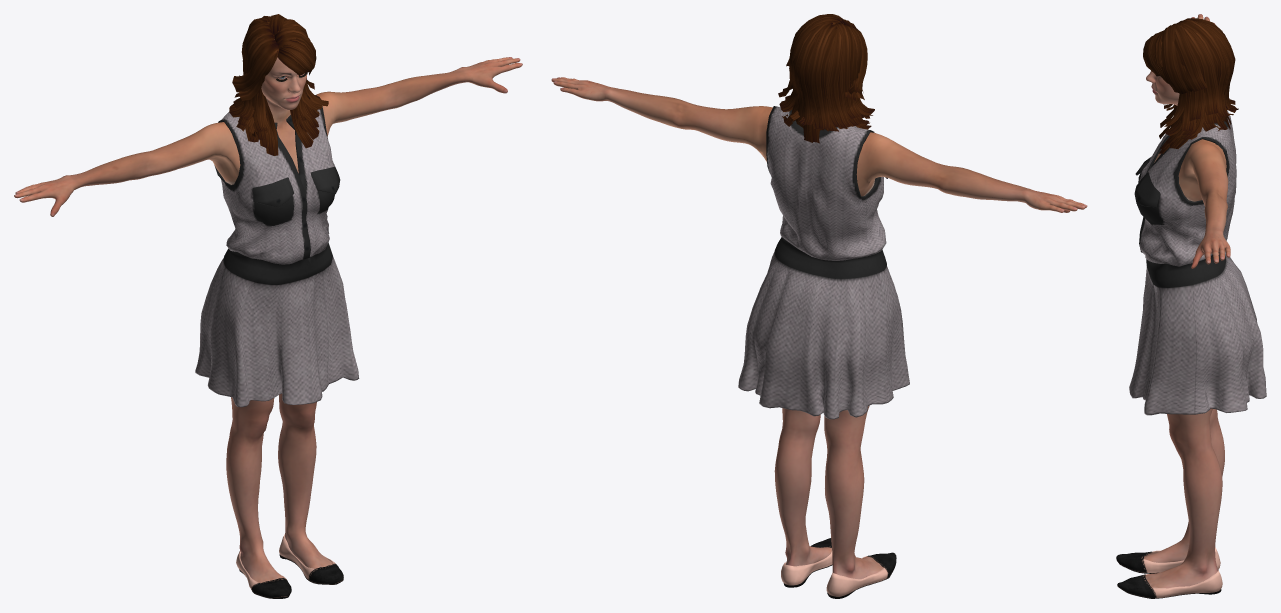
The model's file is woman.obj.
3 renders of one model, left to right at view 1: azimuth 30°, elevation 25°; view 2: azimuth 150°, elevation 25°; view 3: azimuth 270°, elevation 25°, orthographic. The views are drawn at different scales.
Parts seen in each view (by area): view 1: woman; view 2: woman; view 3: woman.
Part boxes in pixels (bbox=[...]): woman: bbox=[14, 14, 522, 598]; woman: bbox=[551, 14, 1087, 598]; woman: bbox=[1116, 14, 1266, 598].
Bounding box in the file's own units: 603 × 622 × 151.
